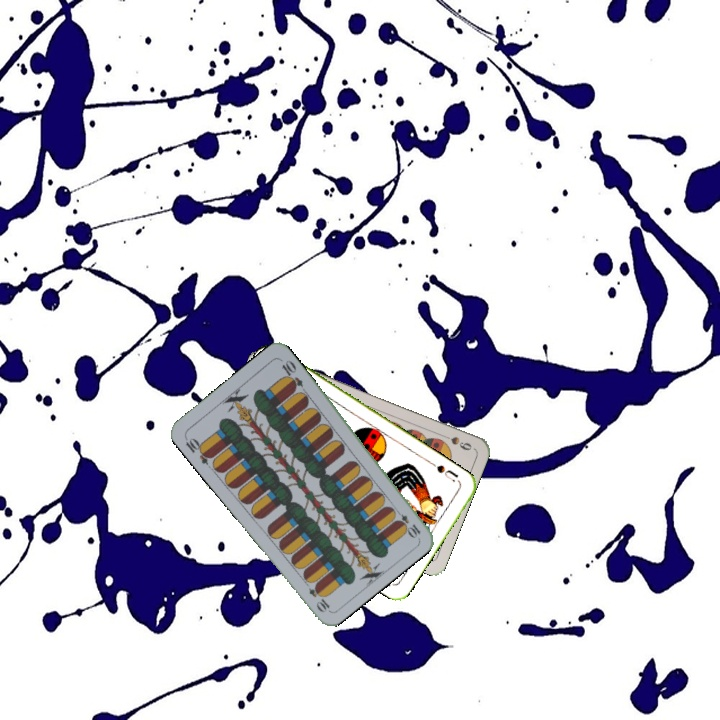E10: (181, 433, 215, 467), (390, 505, 423, 540)
S9: (436, 430, 474, 453)
SU: (432, 461, 461, 484)
